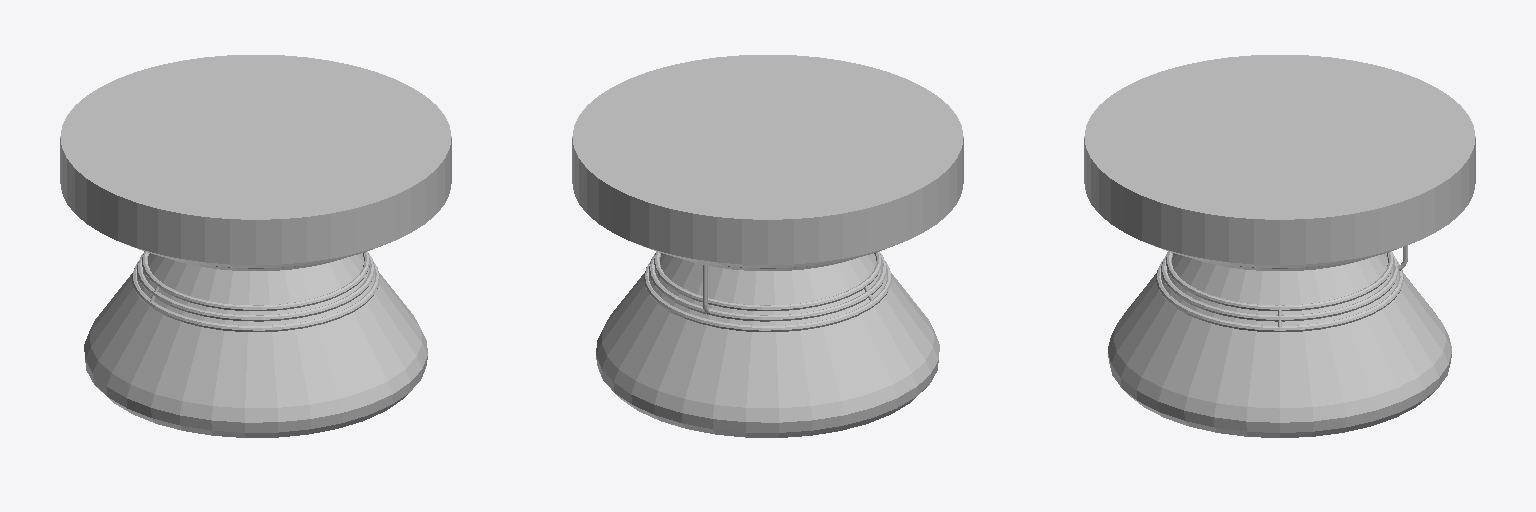
Rendered from 125_coolie.obj.
3 renders of one model, left to right at view 1: azimuth 30°, elevation 25°; view 2: azimuth 150°, elevation 25°; view 3: azimuth 270°, elevation 25°, orthographic.
Visible parts, largest first — view 1: Cylinder; view 2: Cylinder; view 3: Cylinder.
Part boxes in pixels (left/top/right/bottom): Cylinder: left=60, top=55, right=451, bottom=437; Cylinder: left=572, top=55, right=963, bottom=437; Cylinder: left=1084, top=55, right=1475, bottom=437.
Bounding box in the file's own units: 1.25 × 0.8373 × 1.25.